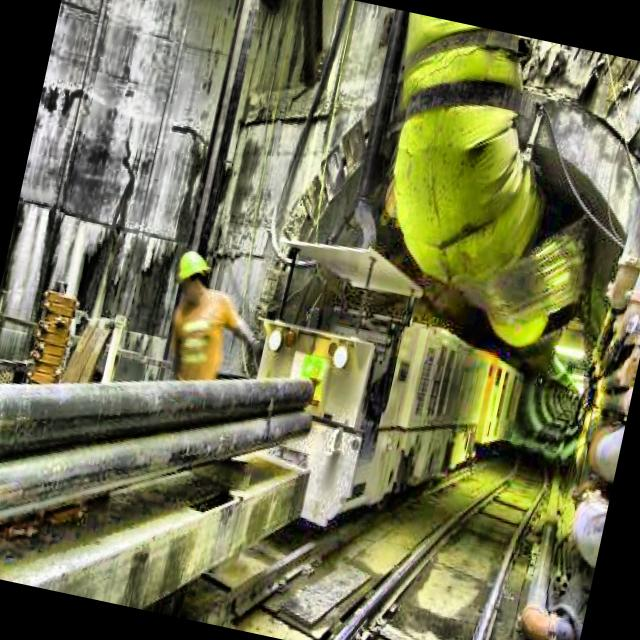helmet: (169, 244, 216, 306)
